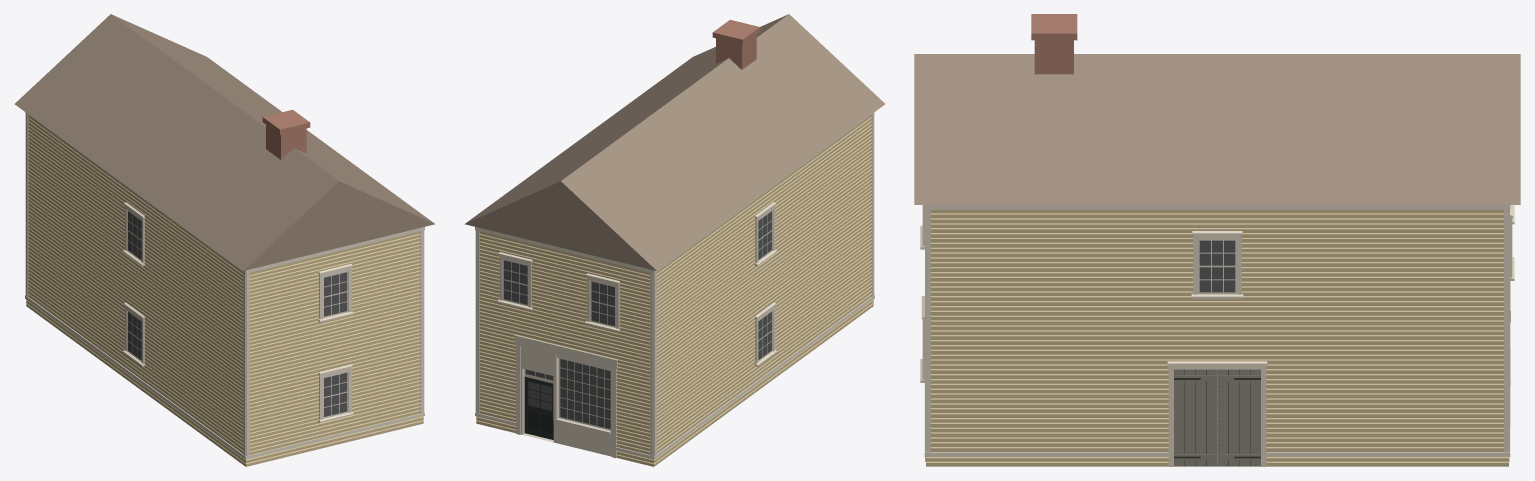
File: recon_1835_core_c3_034__inferred_1835.glb
The picture shows the model from 3 angles, left to right: view 1: azimuth 30°, elevation 25°; view 2: azimuth 150°, elevation 25°; view 3: azimuth 270°, elevation 25°; orthographic projection. The views are drawn at different scales.
Parts seen in each view (by area): view 1: recon_1835_core_c3_034__inferred_1835; view 2: recon_1835_core_c3_034__inferred_1835; view 3: recon_1835_core_c3_034__inferred_1835.
Part boxes in pixels (x1=…): recon_1835_core_c3_034__inferred_1835: x1=14, y1=14, x2=435, y2=466; recon_1835_core_c3_034__inferred_1835: x1=464, y1=14, x2=885, y2=466; recon_1835_core_c3_034__inferred_1835: x1=914, y1=14, x2=1520, y2=466.
Bounding box in the file's own units: 6.28 × 9.02 × 12.87.
